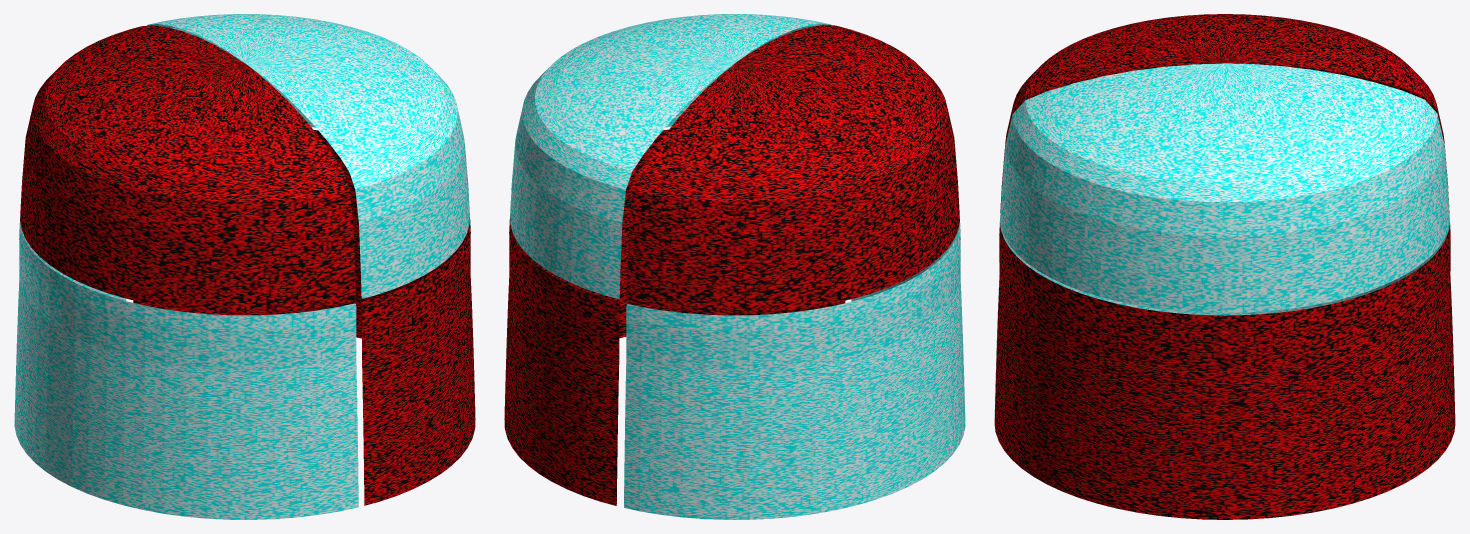
The model's file is SM_SkyBox_01_GDH.fbx.
The picture shows the model from 3 angles, left to right: view 1: azimuth 30°, elevation 25°; view 2: azimuth 150°, elevation 25°; view 3: azimuth 270°, elevation 25°; orthographic projection.
Visible parts, largest first — view 1: SM_SkyBox_01_GDH; view 2: SM_SkyBox_01_GDH; view 3: SM_SkyBox_01_GDH.
Boxes of the visible parts, x1,y1,x2,y2 form: SM_SkyBox_01_GDH: (14, 14, 475, 519); SM_SkyBox_01_GDH: (504, 14, 965, 519); SM_SkyBox_01_GDH: (994, 14, 1455, 519).
Size of the model in its own units: 5773 by 4962 by 5773.
